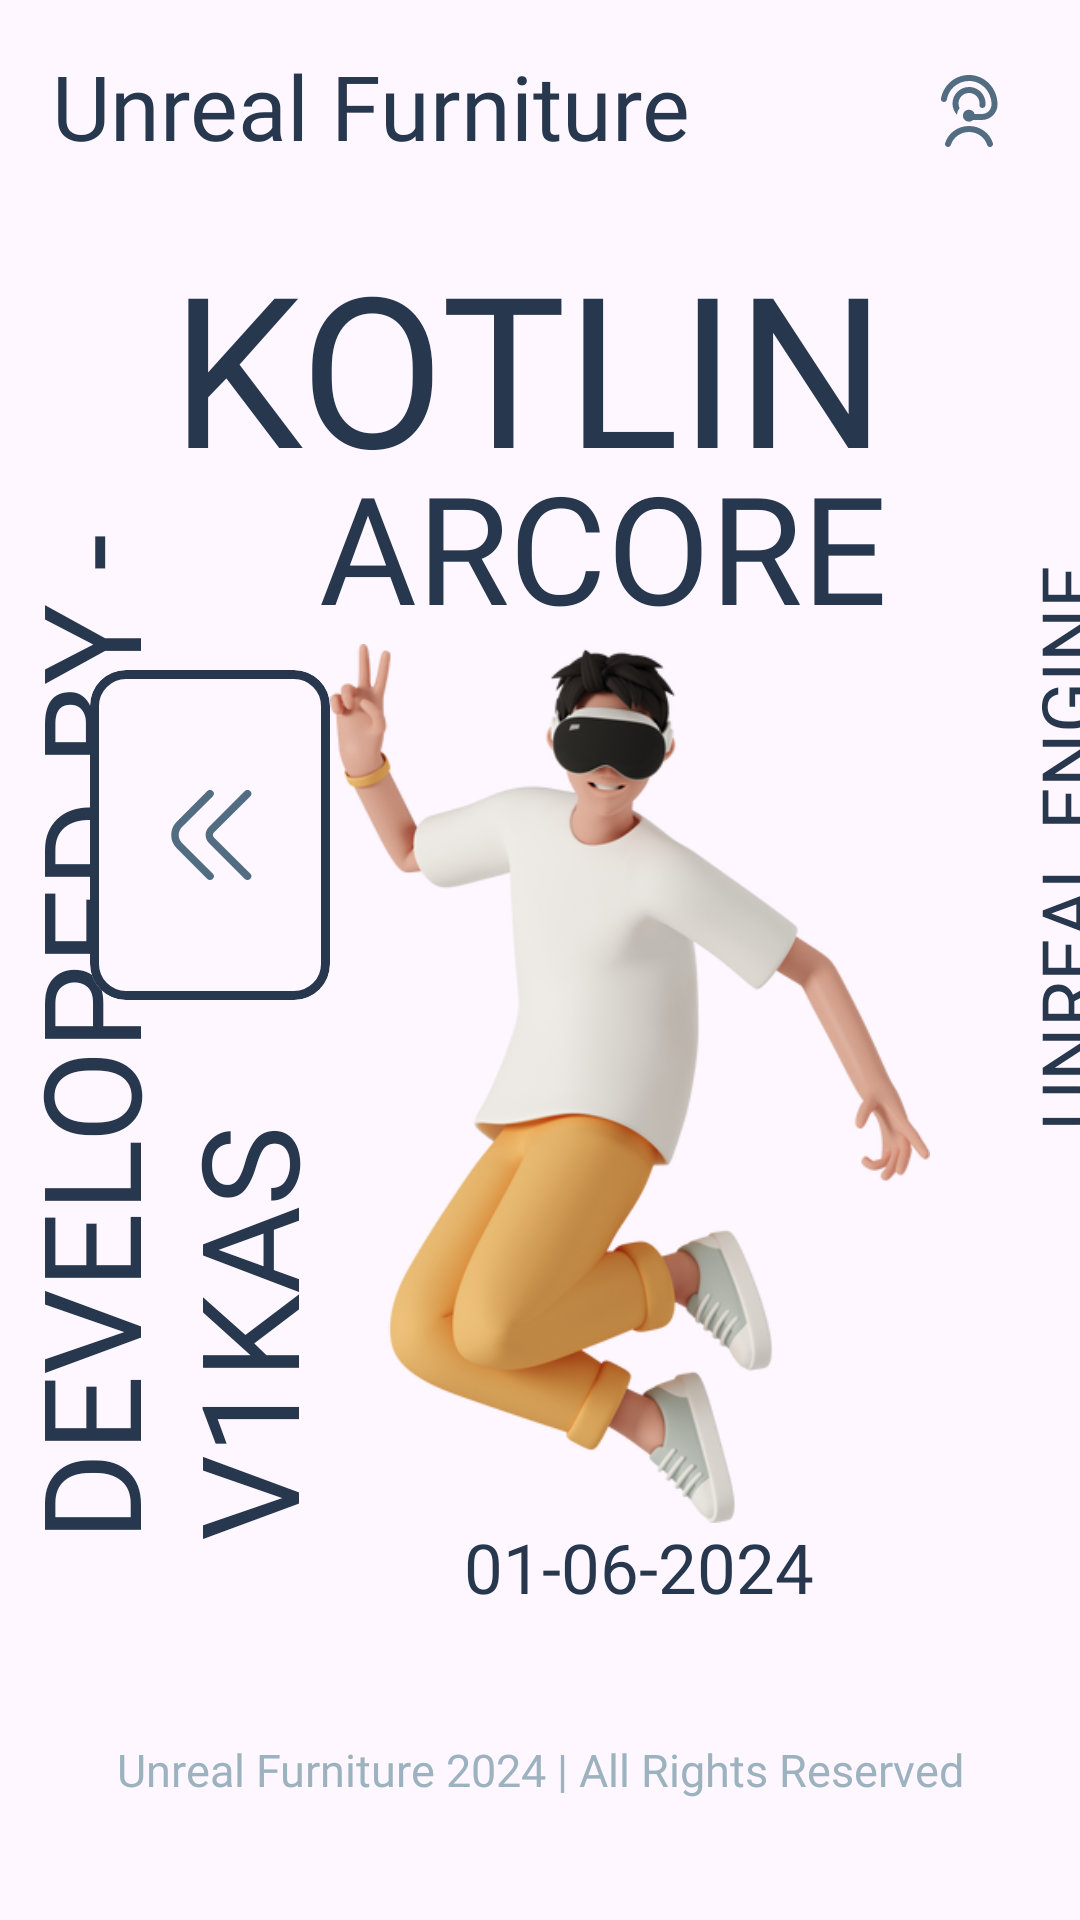

Named icons in this screenshot (1080px×1920px) and their centers, [x,y]:
goback: [211,835]
support: [969,111]
